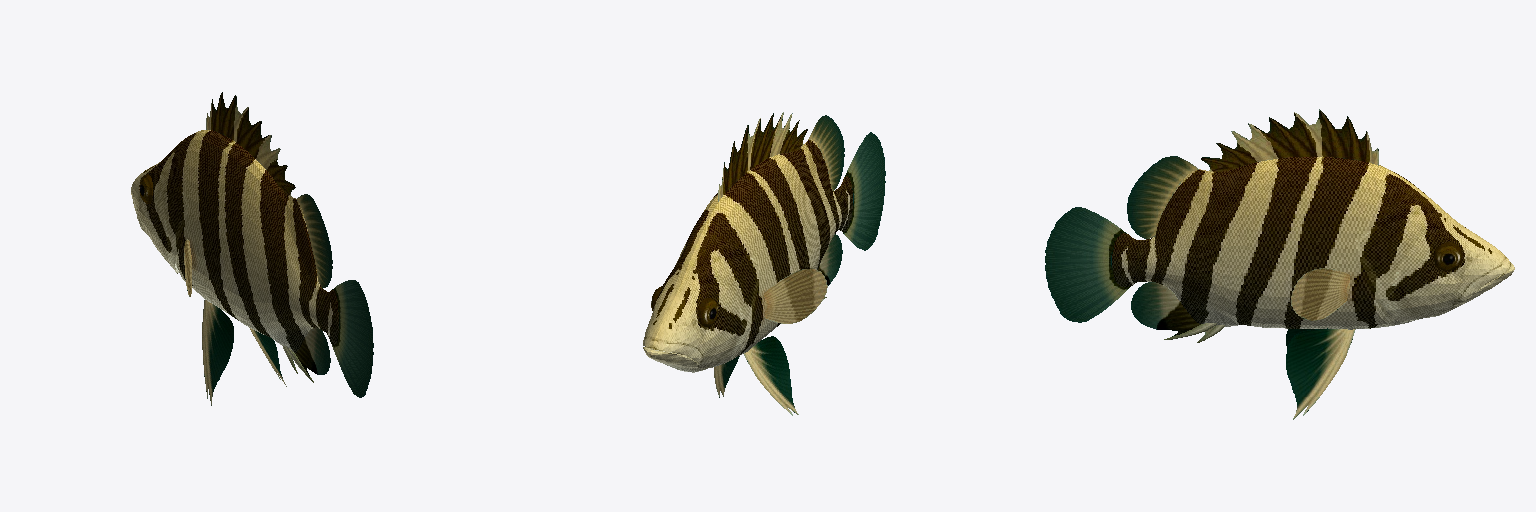
3 renders of one model, left to right at view 1: azimuth 30°, elevation 25°; view 2: azimuth 150°, elevation 25°; view 3: azimuth 270°, elevation 25°, orthographic.
Parts seen in each view (by area): view 1: Object_SIAMEST.jpg; view 2: Object_SIAMEST.jpg; view 3: Object_SIAMEST.jpg.
Boxes of the visible parts, box(x1,y1,x2,y2) form: Object_SIAMEST.jpg: box(131, 92, 373, 405); Object_SIAMEST.jpg: box(643, 112, 885, 415); Object_SIAMEST.jpg: box(1045, 109, 1514, 419).
Size of the model in its own units: 0.8 by 1.72 by 2.5.
Materials: 2 (1 with a texture image).